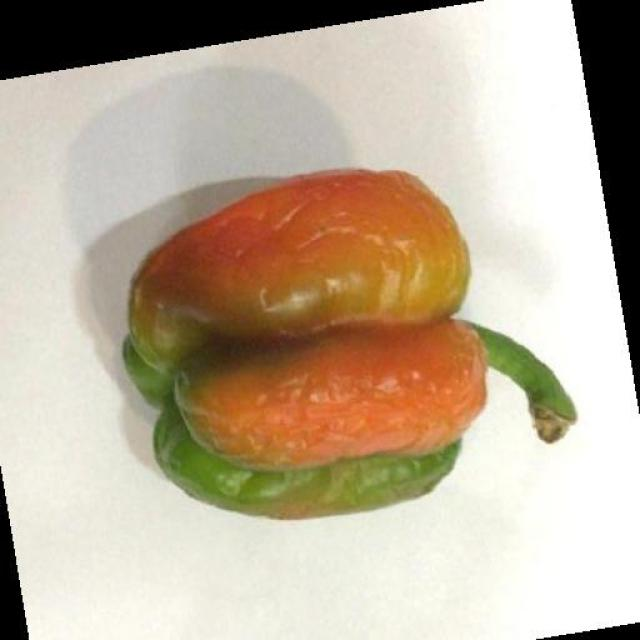Stale_Capsicum: (96, 173, 500, 536)
